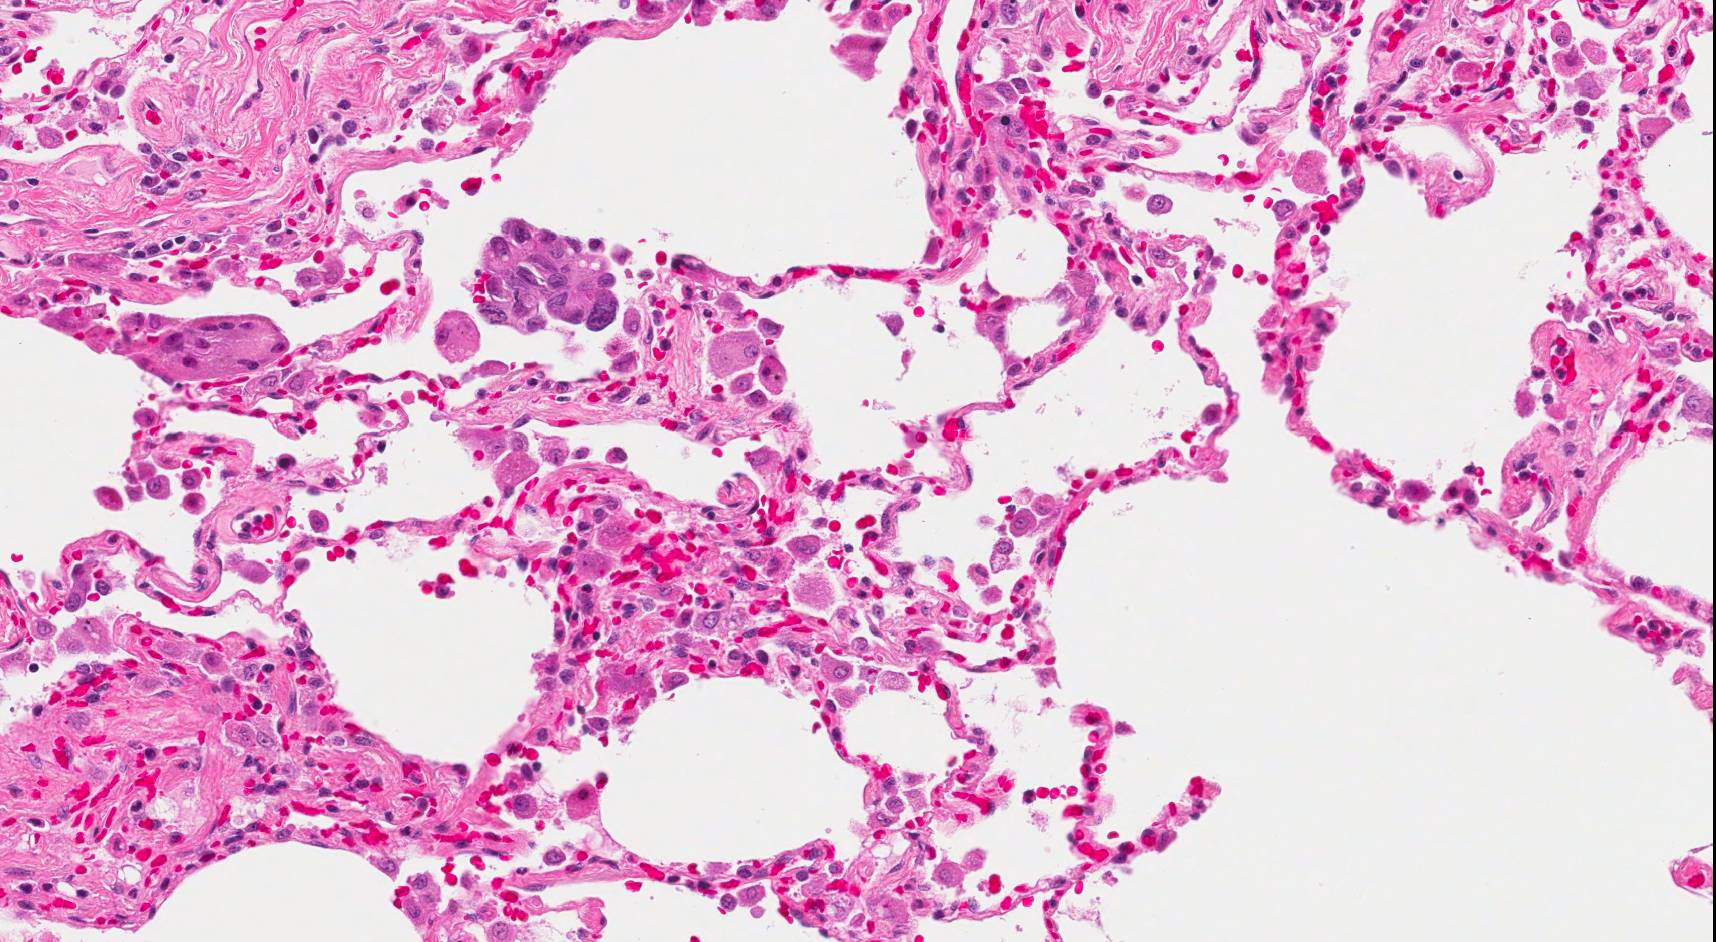stas: (469, 212, 623, 333)
